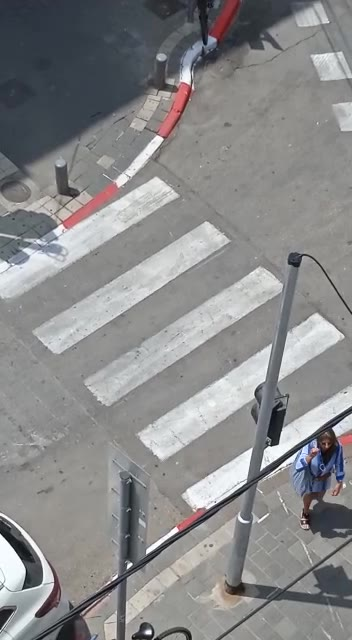crosswalk: (9, 222, 321, 424)
person: (293, 398, 344, 548)
